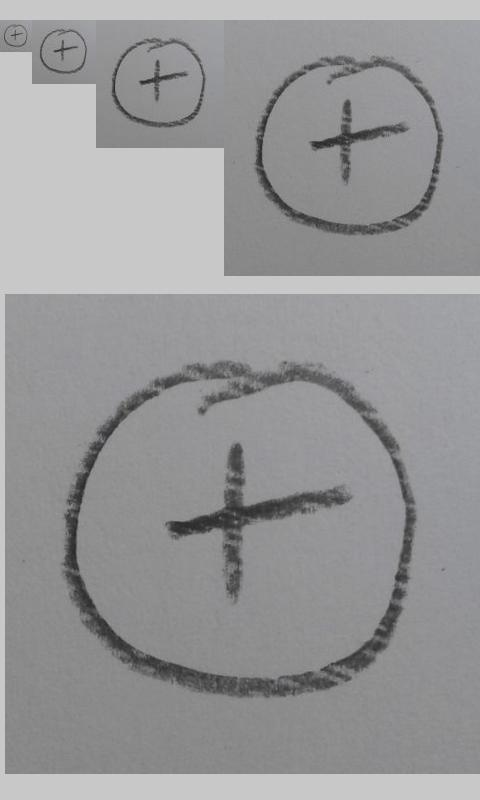button: (61, 358, 417, 696), (254, 54, 444, 236), (111, 37, 207, 128), (39, 28, 87, 74), (3, 24, 28, 48)
